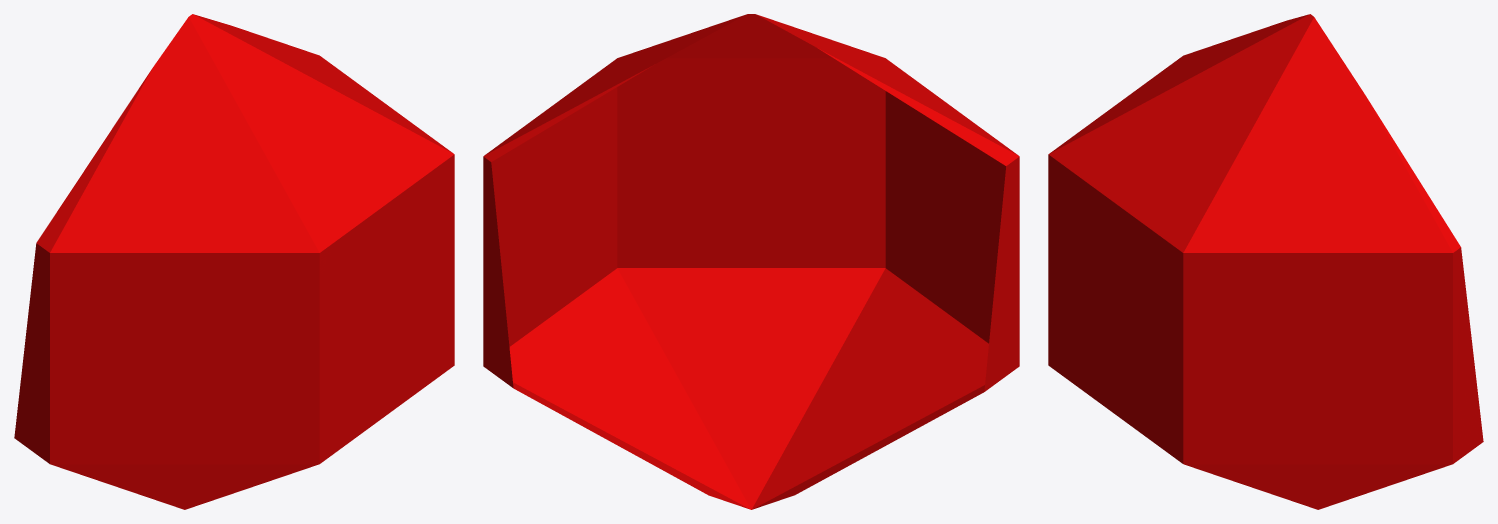
The model's file is 2appleTree.fbx.
The picture shows the model from 3 angles, left to right: view 1: azimuth 30°, elevation 25°; view 2: azimuth 150°, elevation 25°; view 3: azimuth 270°, elevation 25°; orthographic projection.
Visible parts, largest first — view 1: Vegetation_Tree_Apple_01.003; view 2: Vegetation_Tree_Apple_01.003; view 3: Vegetation_Tree_Apple_01.003.
Part boxes in pixels (bbox=[...]): Vegetation_Tree_Apple_01.003: bbox=[14, 14, 454, 509]; Vegetation_Tree_Apple_01.003: bbox=[483, 14, 1019, 509]; Vegetation_Tree_Apple_01.003: bbox=[1048, 14, 1483, 509].
Size of the model in its own units: 28.63 by 33.53 by 26.66.
